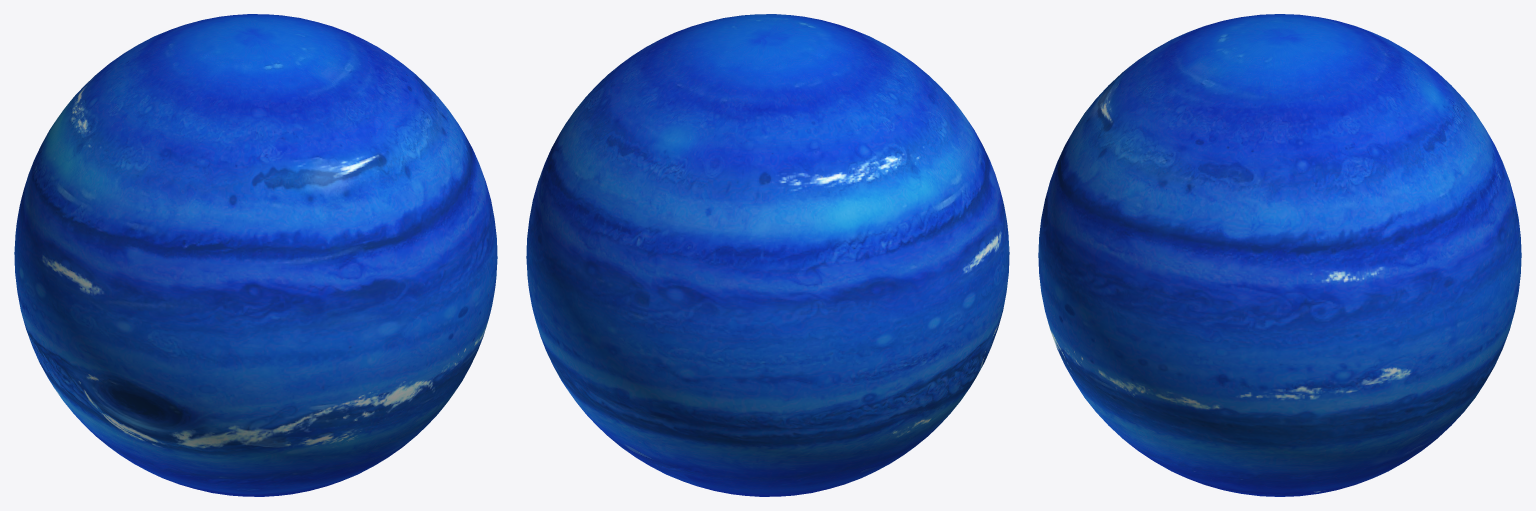
The model's file is qiu_01.fbx.
The picture shows the model from 3 angles, left to right: view 1: azimuth 30°, elevation 25°; view 2: azimuth 150°, elevation 25°; view 3: azimuth 270°, elevation 25°; orthographic projection.
Visible parts, largest first — view 1: qiu_12; view 2: qiu_12; view 3: qiu_12.
Boxes of the visible parts, x1,y1,x2,y2 form: qiu_12: (14, 14, 497, 496); qiu_12: (526, 14, 1009, 496); qiu_12: (1038, 14, 1521, 496).
Size of the model in its own units: 5.79 by 5.79 by 5.79.
1 material, 1 textured.
